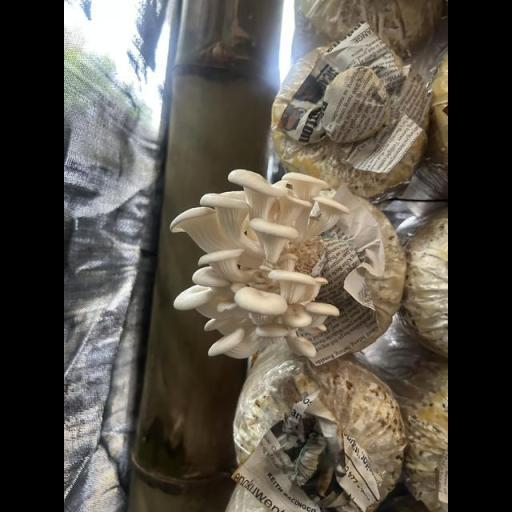White Oyster Mushroom: (160, 155, 359, 373)
